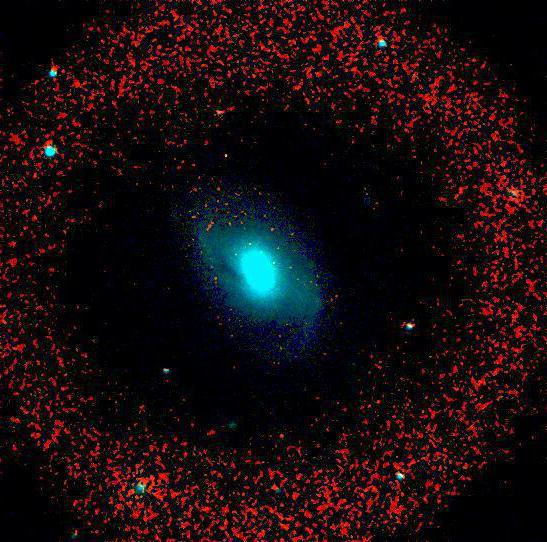star: (216, 139, 246, 169)
